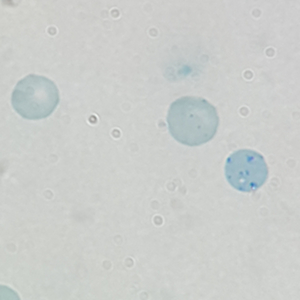aggregate reticulocyte: (222, 147, 270, 194)
erythrocyte: (9, 73, 62, 122)
punctate reticulocyte: (166, 95, 221, 148)
